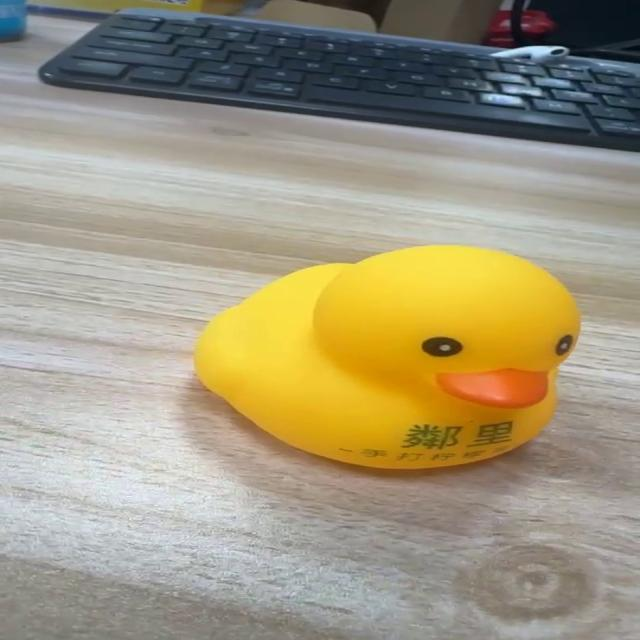yellow_duck: (191, 242, 583, 470)
